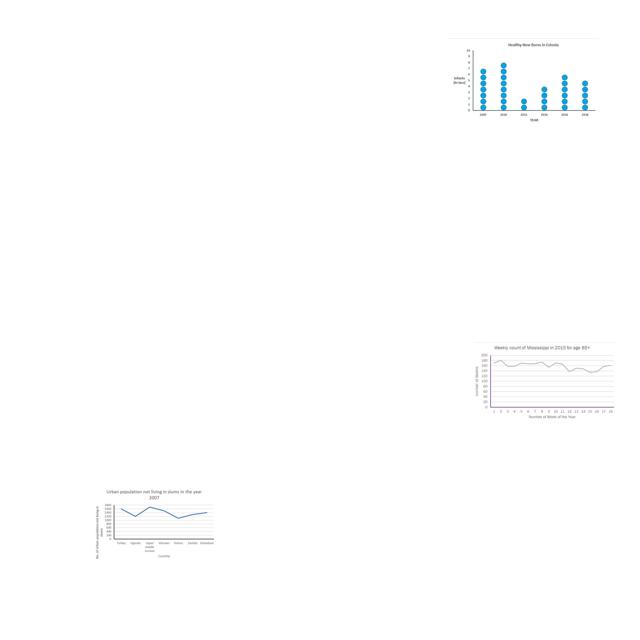Graph: (448, 38, 599, 126), (474, 342, 616, 421), (93, 488, 216, 560)
